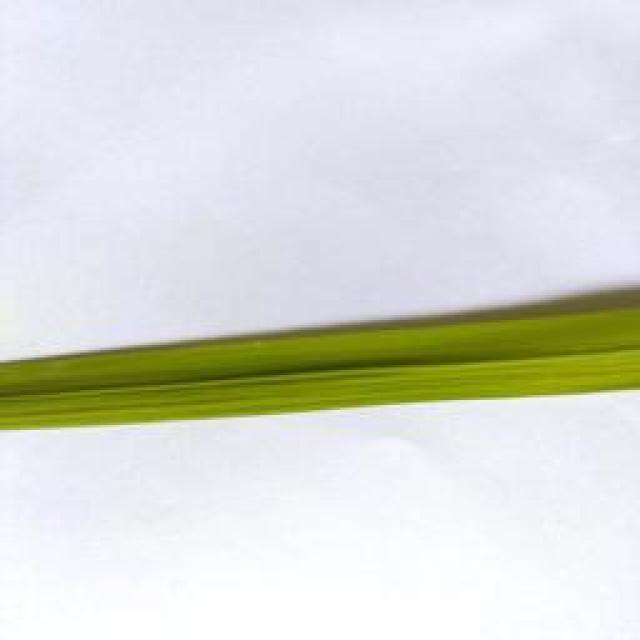Healthy-Plant: (0, 296, 640, 448)
